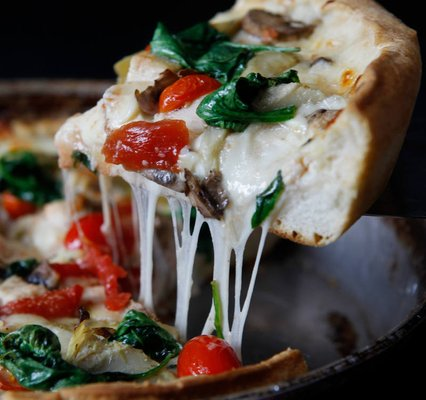sandwich: (53, 15, 422, 344), (0, 137, 186, 392)
